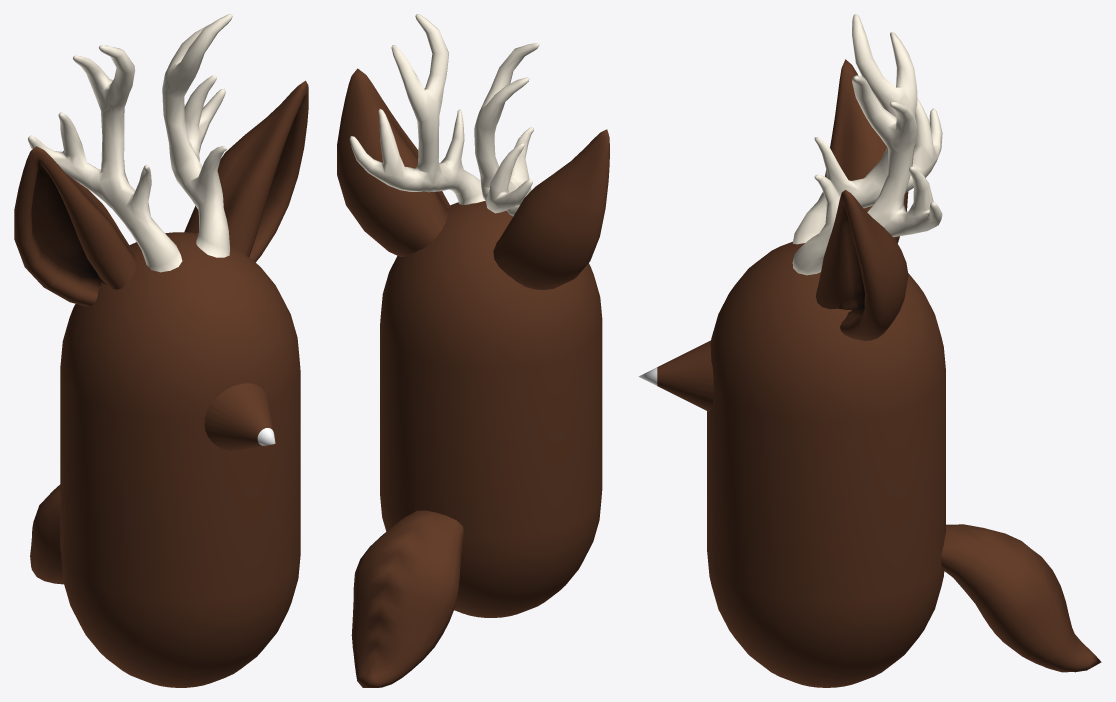
The model's file is NPC_Deer.fbx.
The picture shows the model from 3 angles, left to right: view 1: azimuth 30°, elevation 25°; view 2: azimuth 150°, elevation 25°; view 3: azimuth 270°, elevation 25°; orthographic projection. The views are drawn at different scales.
Parts seen in each view (by area): view 1: Deer; view 2: Deer; view 3: Deer.
Part boxes in pixels (x1,y1,x2,y2): Deer: (14, 14, 308, 687); Deer: (337, 14, 609, 687); Deer: (638, 14, 1101, 687).
Size of the model in its own units: 1.38 by 2.92 by 1.94.
